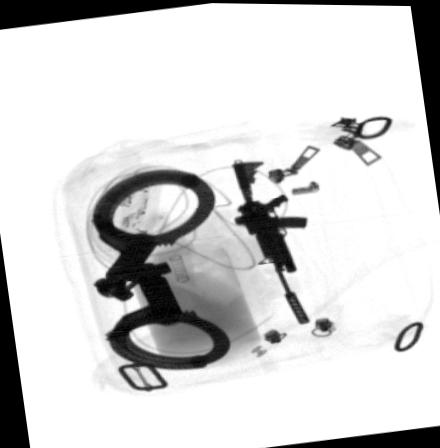Gun: (231, 158, 312, 324)
HandCuffs: (86, 166, 233, 368)
